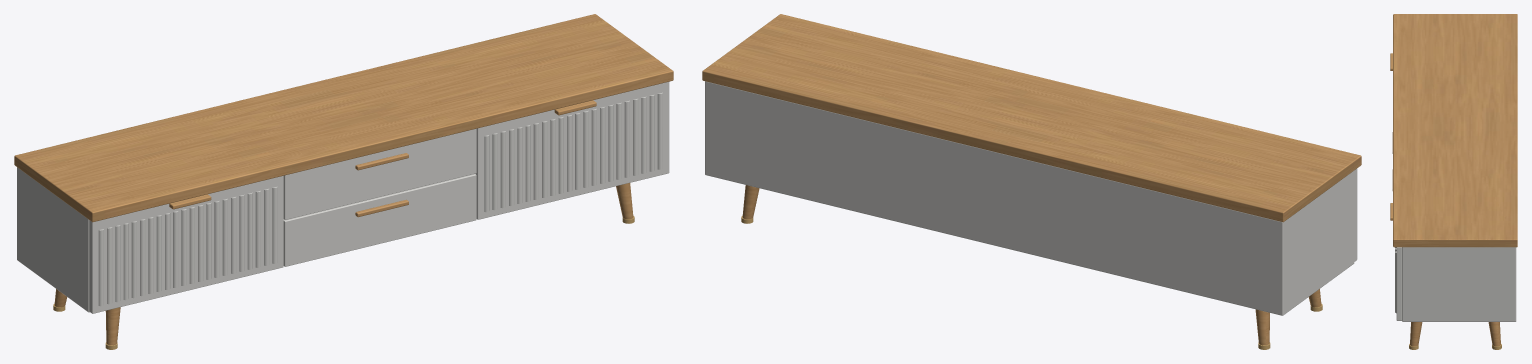
The model's file is tv_stand.glb.
3 renders of one model, left to right at view 1: azimuth 30°, elevation 25°; view 2: azimuth 150°, elevation 25°; view 3: azimuth 270°, elevation 25°, orthographic. The views are drawn at different scales.
Visible parts, largest first — view 1: tv_stand_top, tv_stand_fronts, tv_stand_flutes, tv_stand_carcass, tv_stand_legs, tv_stand_pulls; view 2: tv_stand_carcass, tv_stand_top, tv_stand_legs; view 3: tv_stand_top, tv_stand_carcass, tv_stand_legs, tv_stand_fronts, tv_stand_pulls, tv_stand_flutes.
Boxes of the visible parts, box(x1,y1,x2,y2) form: tv_stand_top: box(14, 14, 673, 222); tv_stand_fronts: box(89, 82, 669, 313); tv_stand_flutes: box(98, 92, 662, 306); tv_stand_carcass: box(17, 167, 89, 312); tv_stand_legs: box(53, 183, 634, 349); tv_stand_pulls: box(169, 100, 596, 217); tv_stand_carcass: box(705, 81, 1354, 315); tv_stand_top: box(702, 14, 1361, 222); tv_stand_legs: box(741, 185, 1322, 349); tv_stand_top: box(1393, 14, 1517, 247); tv_stand_carcass: box(1402, 247, 1516, 321); tv_stand_legs: box(1409, 322, 1501, 349); tv_stand_fronts: box(1396, 247, 1401, 320); tv_stand_pulls: box(1390, 53, 1392, 220); tv_stand_flutes: box(1395, 247, 1396, 313).
Bounding box in the file's own units: 1.8 × 0.45 × 0.43.
Materials: 3 (1 with a texture image).
